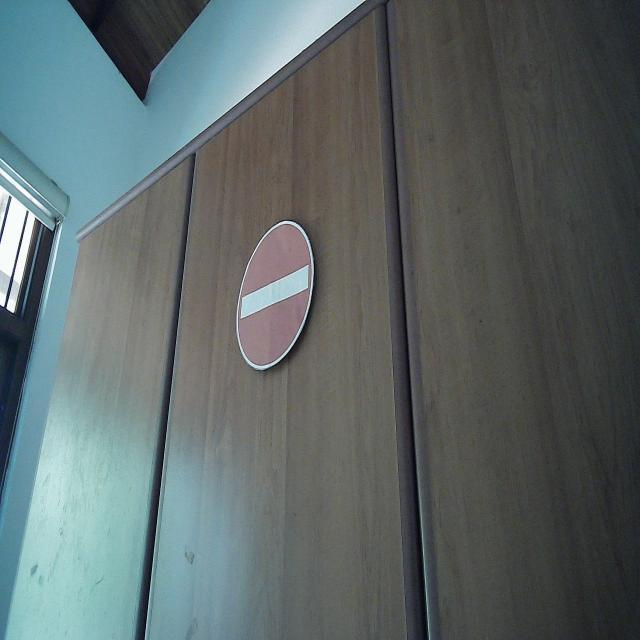no_entry: (235, 216, 316, 374)
